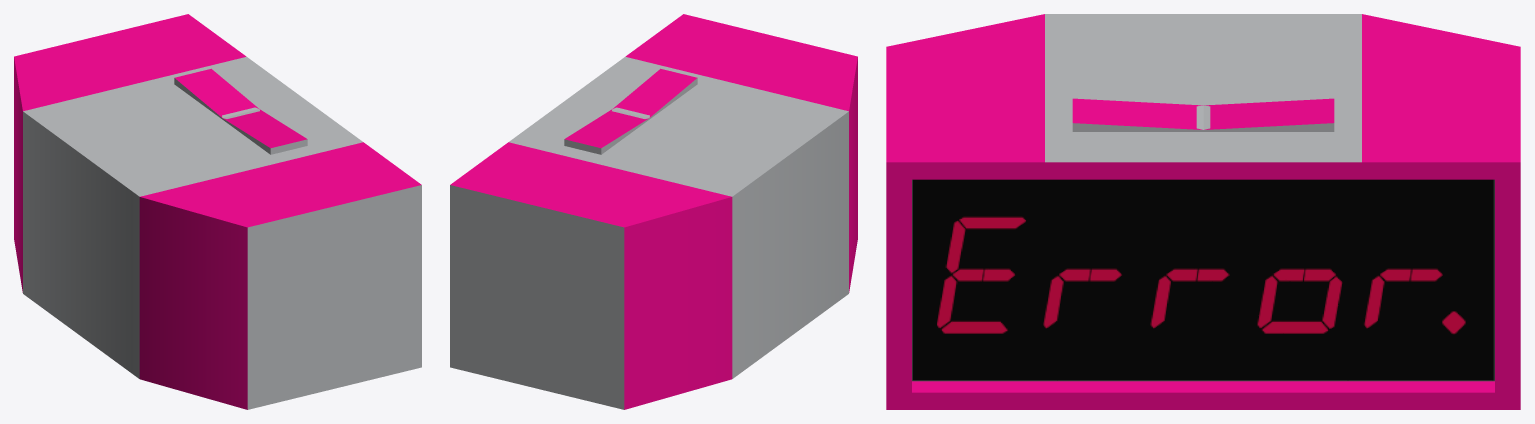
The model's file is AlarmClock.fbx.
3 views of the same model, side by side, from view 1: azimuth 30°, elevation 25°; view 2: azimuth 150°, elevation 25°; view 3: azimuth 270°, elevation 25° (orthographic). The views are drawn at different scales.
Visible parts, largest first — view 1: AlarmClock; view 2: AlarmClock; view 3: AlarmClock.
Boxes of the visible parts, bbox=[...] form: AlarmClock: bbox=[14, 14, 421, 409]; AlarmClock: bbox=[450, 14, 857, 409]; AlarmClock: bbox=[886, 14, 1520, 409].
Size of the model in its own units: 6.03 by 4.87 by 10.91.
3 materials, 1 textured.
